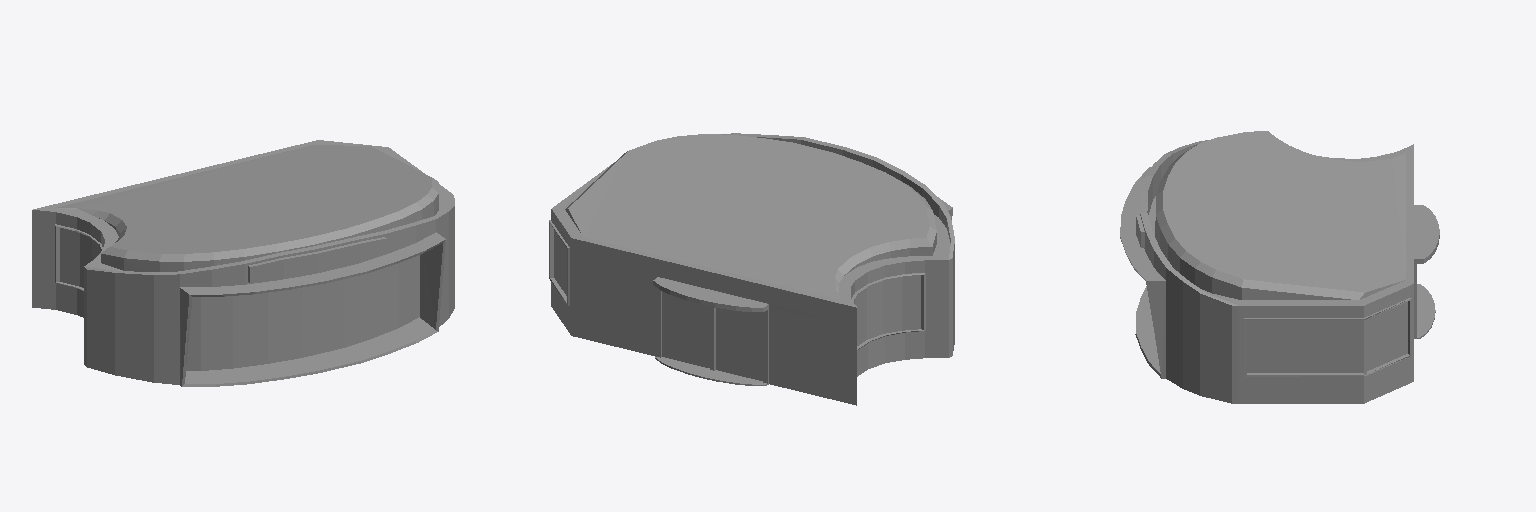
Rendered from market.obj.
3 views of the same model, side by side, from view 1: azimuth 30°, elevation 25°; view 2: azimuth 150°, elevation 25°; view 3: azimuth 270°, elevation 25° (orthographic).
Visible parts, largest first — view 1: Cube; view 2: Cube; view 3: Cube.
Boxes of the visible parts, box(x1,y1,x2,y2) form: Cube: box(32, 140, 454, 386); Cube: box(549, 133, 954, 405); Cube: box(1120, 131, 1439, 403).
Bounding box in the file's own units: 297 × 100 × 232.